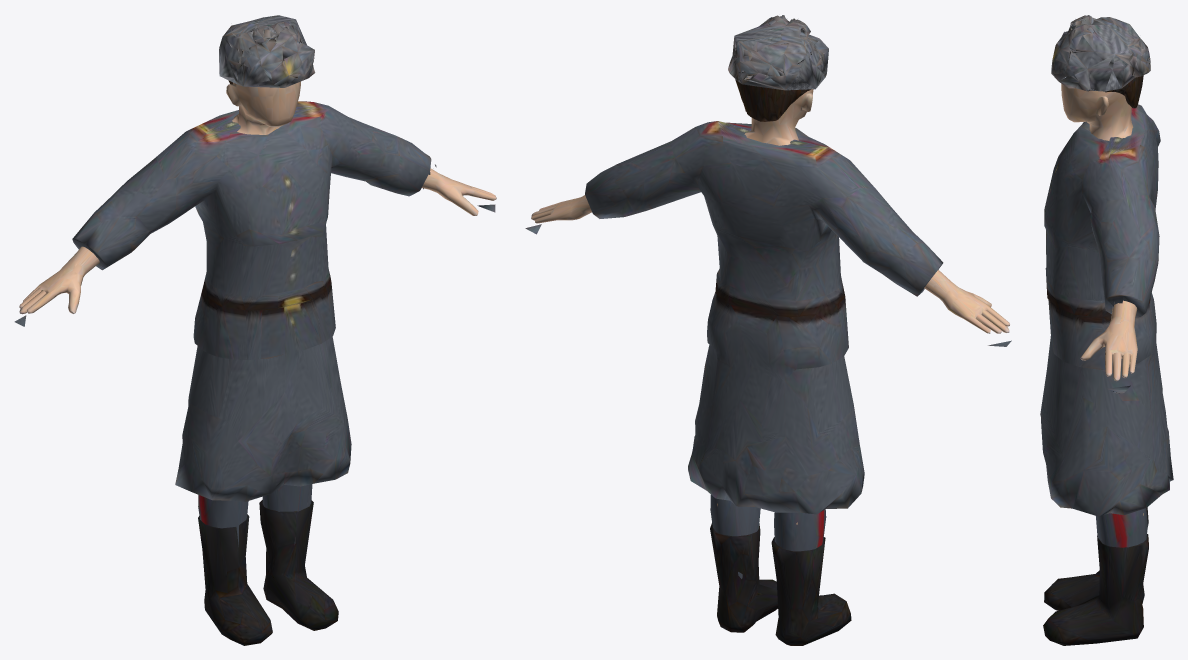
File: npc_x_police_w1.glb
3 views of the same model, side by side, from view 1: azimuth 30°, elevation 25°; view 2: azimuth 150°, elevation 25°; view 3: azimuth 270°, elevation 25° (orthographic).
Parts seen in each view (by area): view 1: Human; view 2: Human; view 3: Human.
Boxes of the visible parts, bbox=[...] form: Human: bbox=[14, 15, 496, 645]; Human: bbox=[525, 15, 1011, 645]; Human: bbox=[1040, 15, 1173, 645].
Size of the model in its own units: 1.55 by 1.86 by 0.3724.
1 material, 1 textured.
